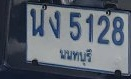txt05: (47, 10, 63, 40)
txt20: (29, 7, 46, 38)
